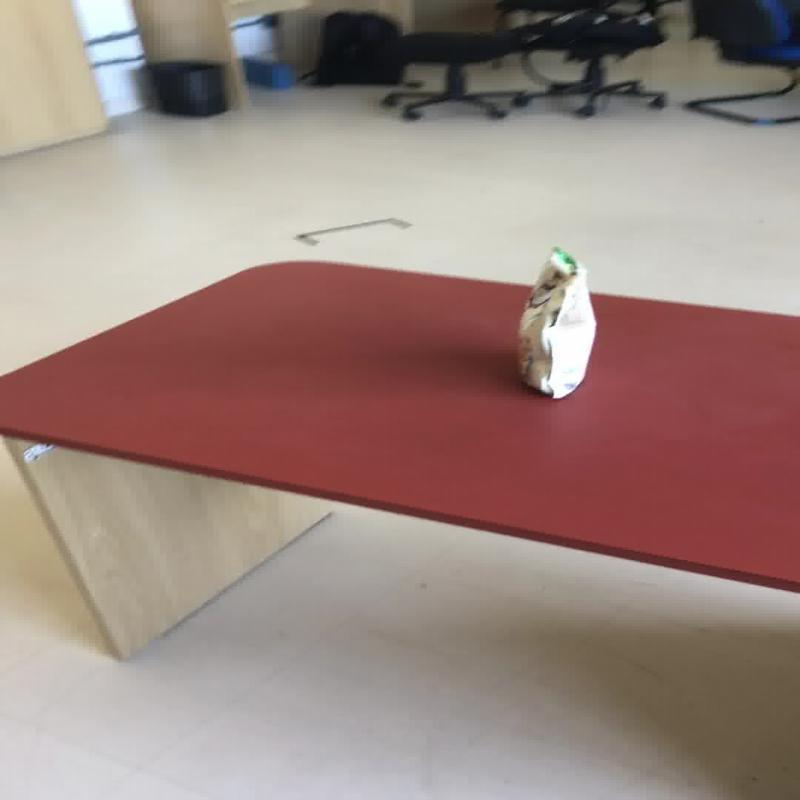corn flakes: (514, 244, 596, 398)
